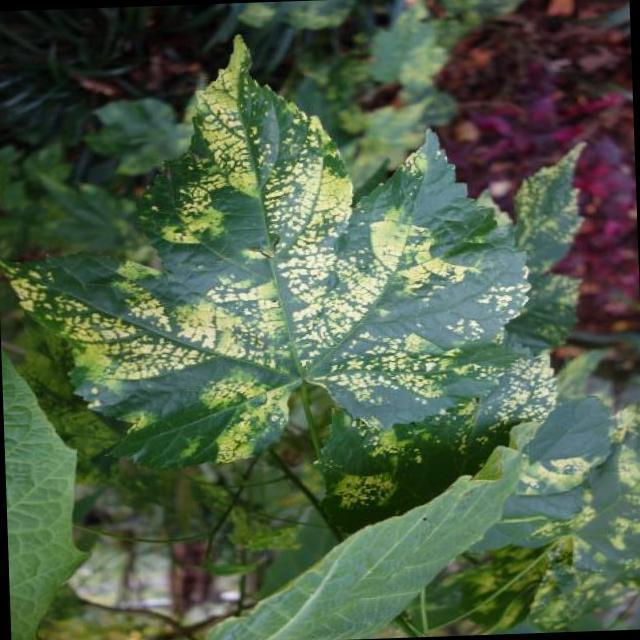Mosaic Virus: (68, 89, 490, 465), (424, 426, 640, 634)
